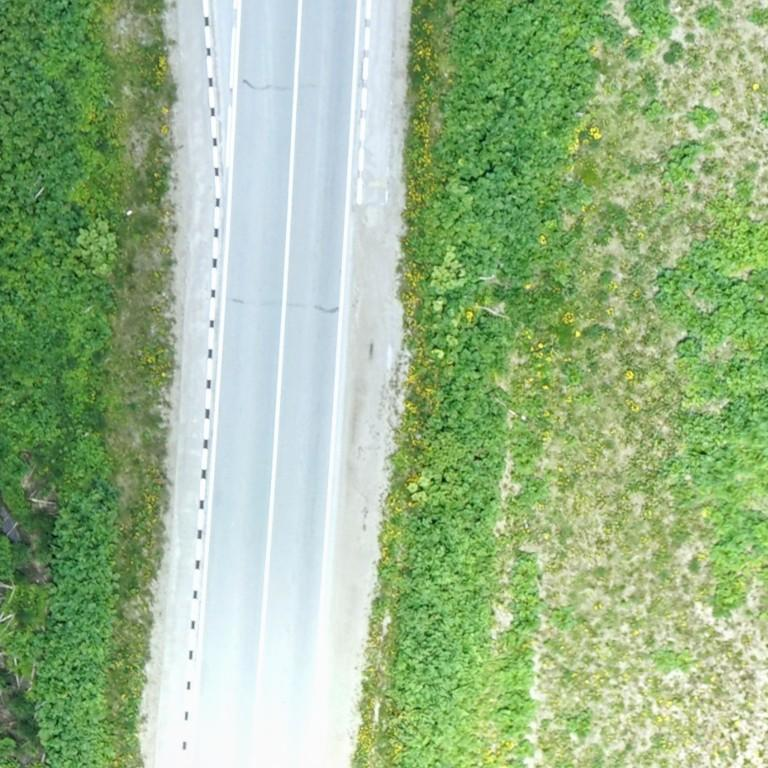hogweed: (356, 0, 621, 767), (0, 0, 112, 307), (654, 198, 767, 487), (34, 477, 120, 767), (501, 553, 540, 650), (511, 421, 546, 506), (625, 0, 675, 36), (669, 144, 700, 185), (697, 5, 718, 25)
